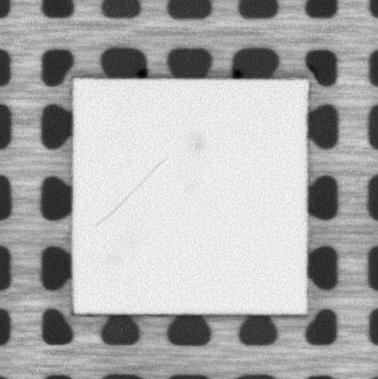DIE_CRACK: (97, 157, 167, 226)
